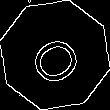O_NE: (22, 24, 88, 86)
